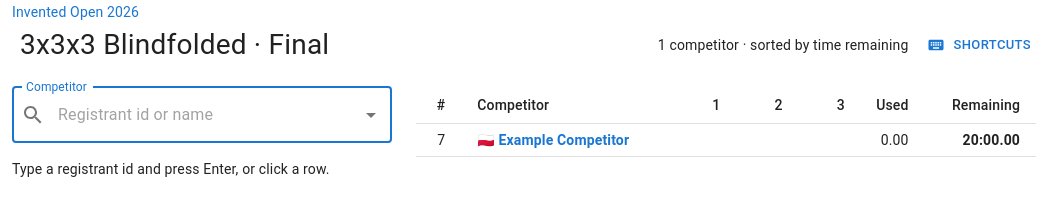
Test: local competition flow › clears the competitor search with Escape
The image size is (1048, 214).
Type "example" into the dropdown labelled "Competitor" at (203, 115), box [53, 96, 353, 134]
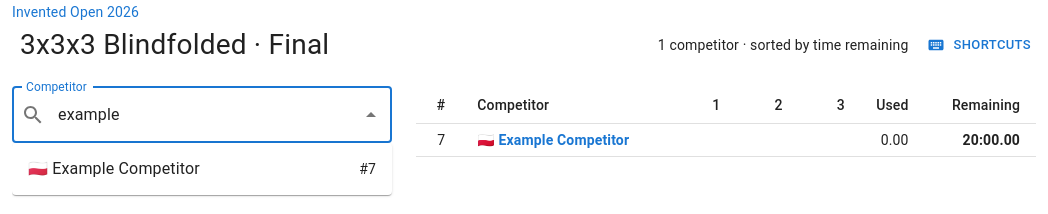
Press Escape
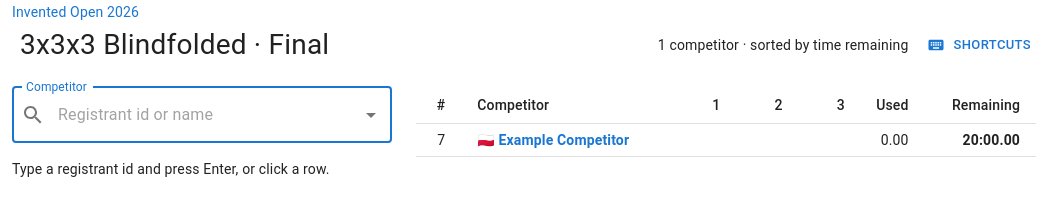
Now the dropdown labelled "Competitor" is empty, box [53, 96, 353, 134]
Now the option is gone
